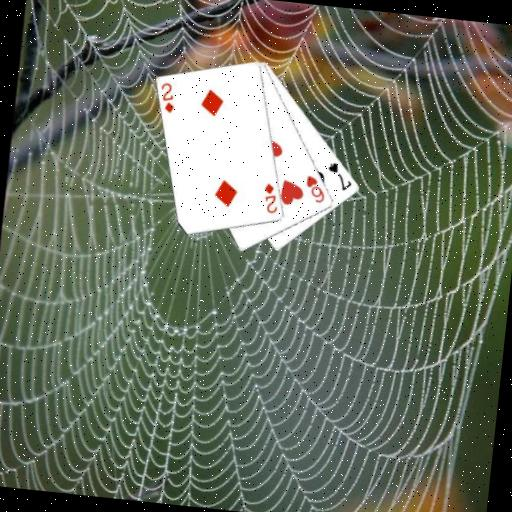2D: (259, 180, 281, 216), (156, 80, 178, 116)
6H: (301, 172, 328, 206)
7S: (323, 159, 356, 194)
